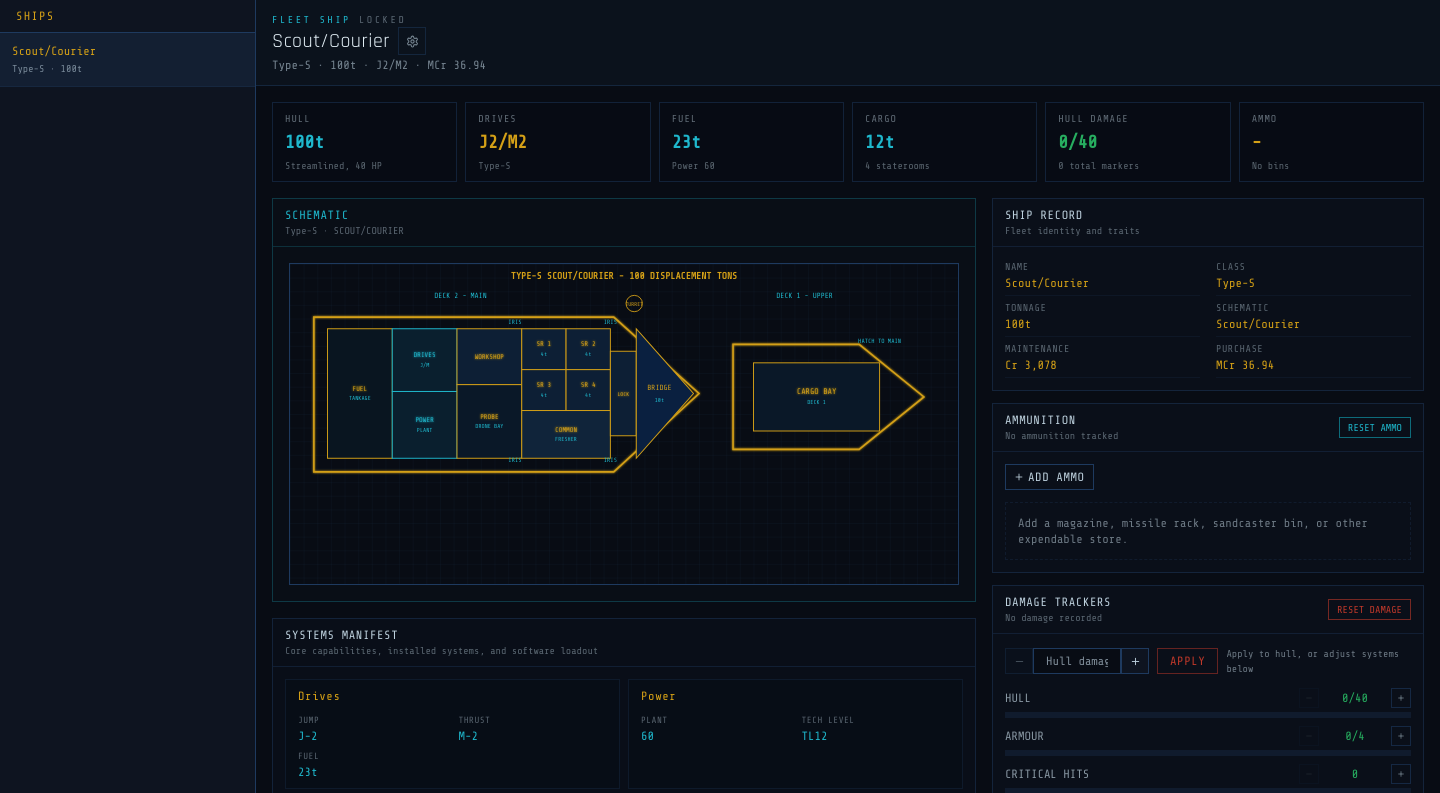
Scenario: ShipViewer › cancels local ship record edits without persisting
The image size is (1440, 793).
Expected: the picture named "Type-S Scout/Courier deck plan" is shown, x1=290 y1=264 x2=958 y2=584
Click the button named "Edit Scout/Courier ship" at [412, 41], box x1=398 y1=27 x2=426 y2=55
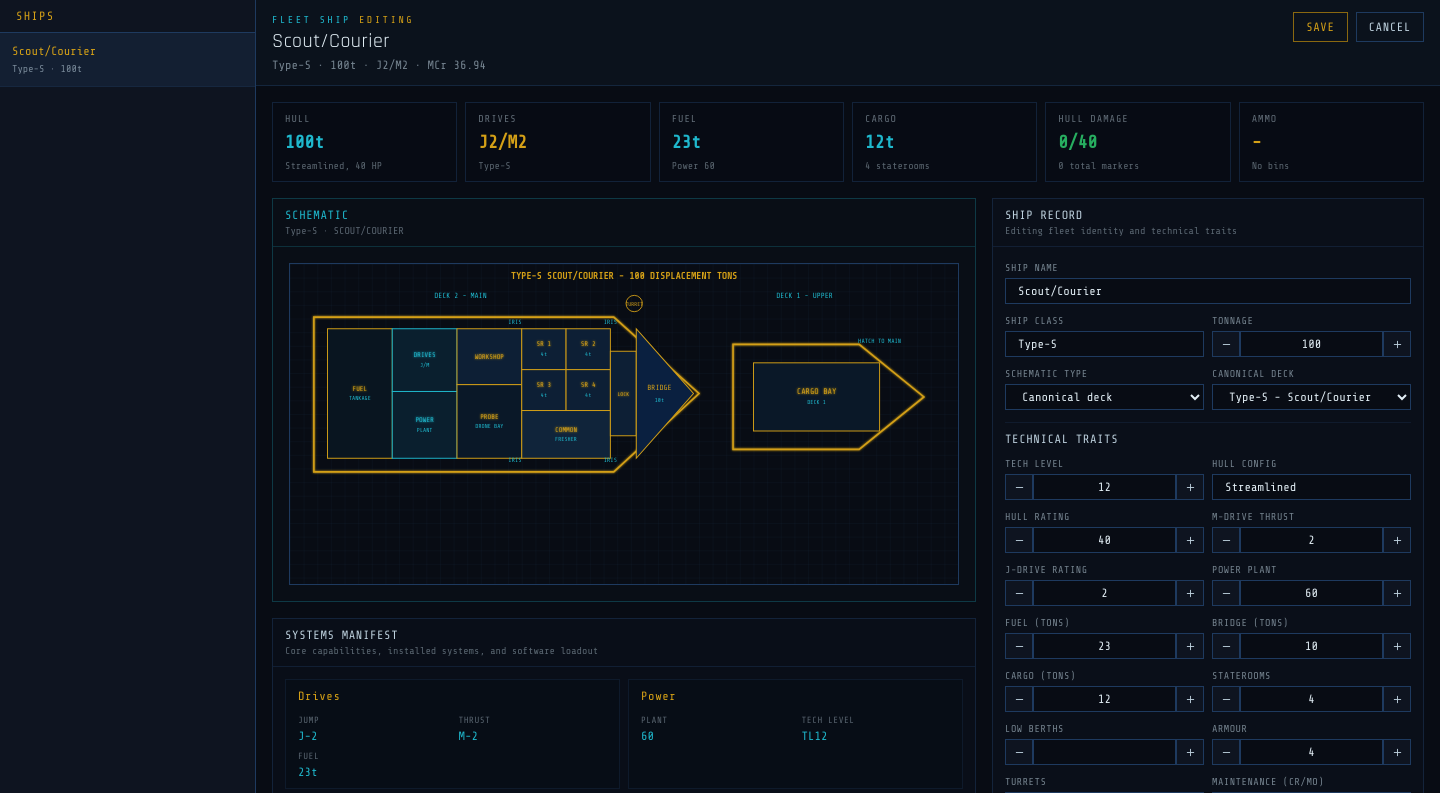
Replace the text in the field labelled "SHIP NAME" with "Unsaved Scout" at [1208, 291], box x1=1005 y1=278 x2=1411 y2=304
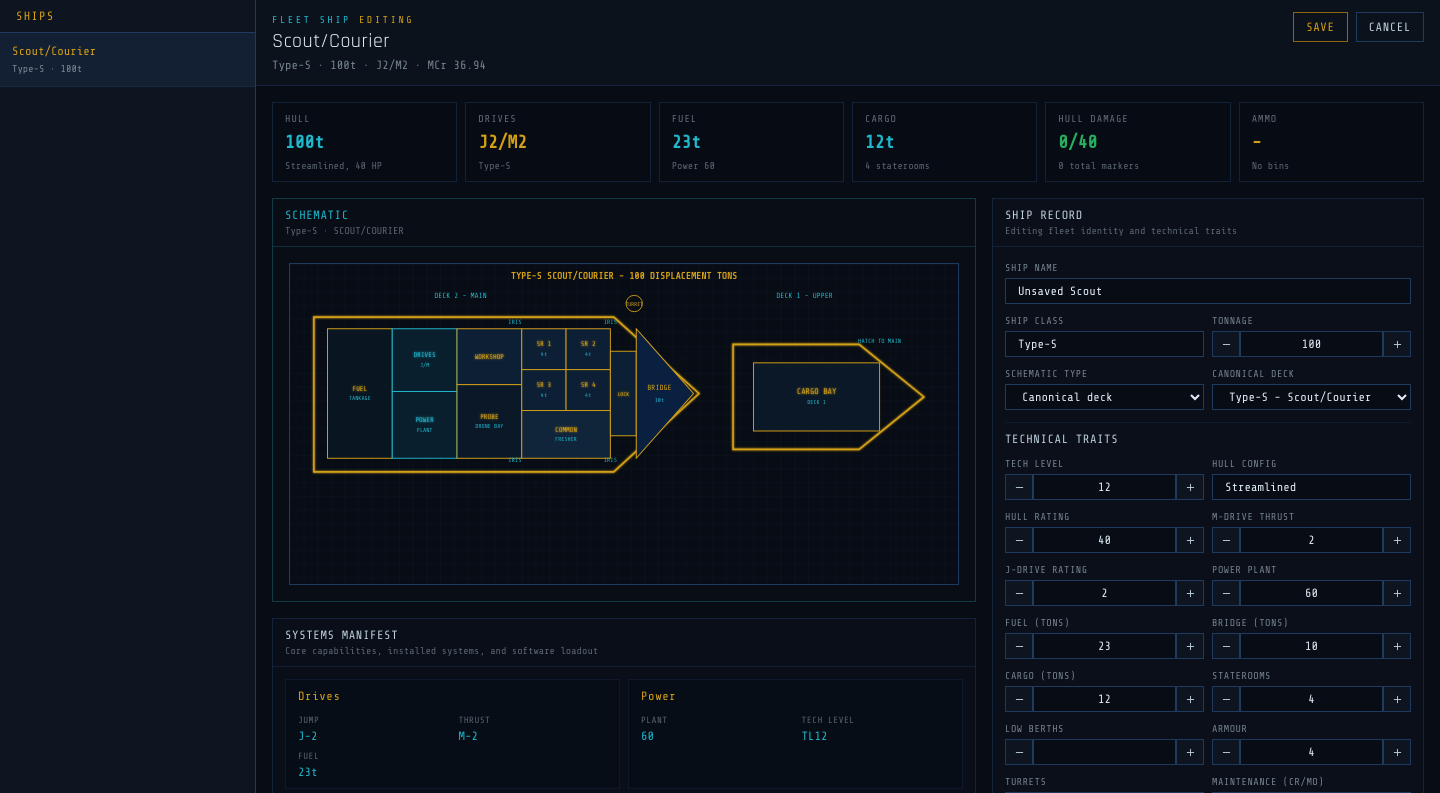
Click the button "CANCEL" at [1390, 27], box x1=1356 y1=12 x2=1424 y2=42
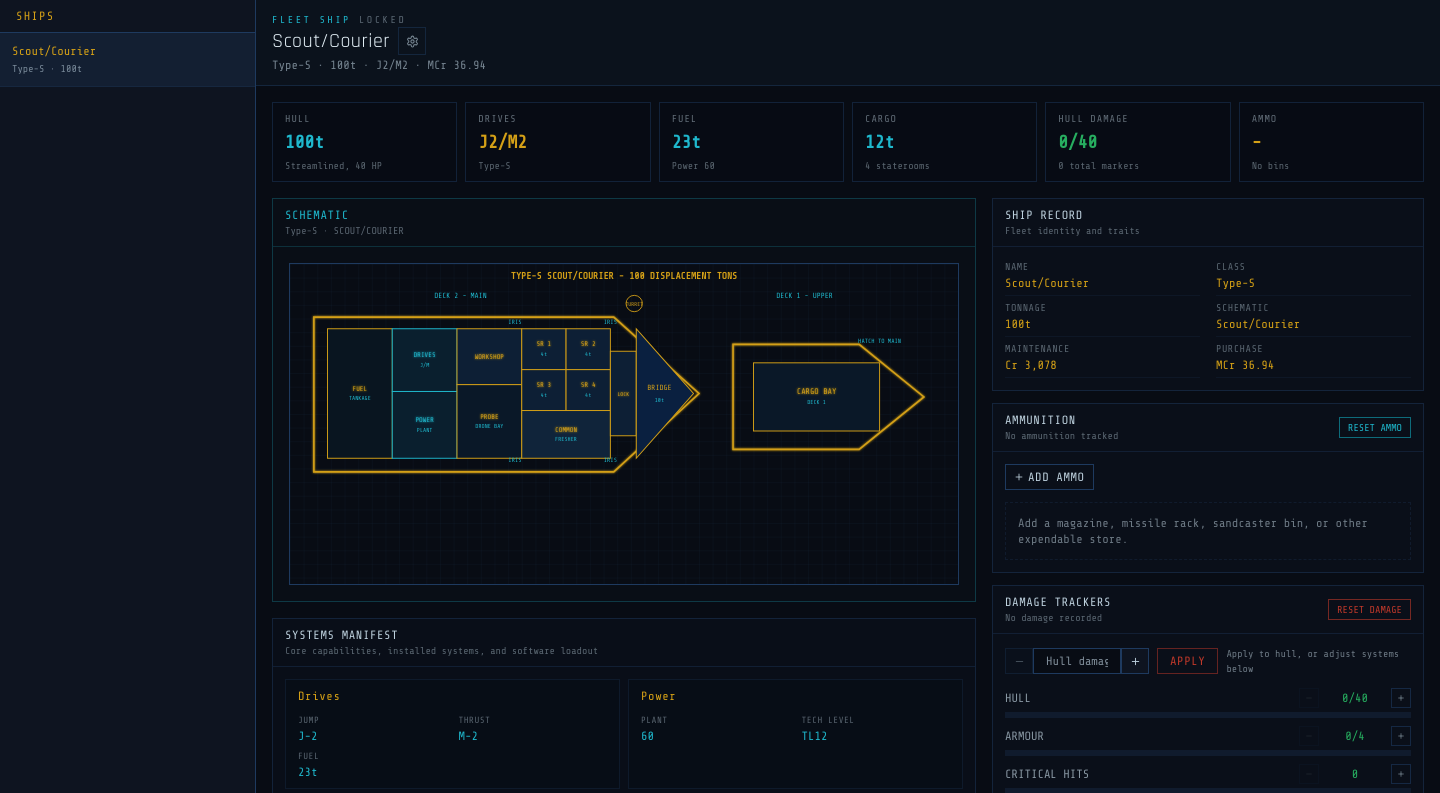
Expected: the text "Unsaved Scout" is not shown
Now the text "SHIP NAME" is gone
